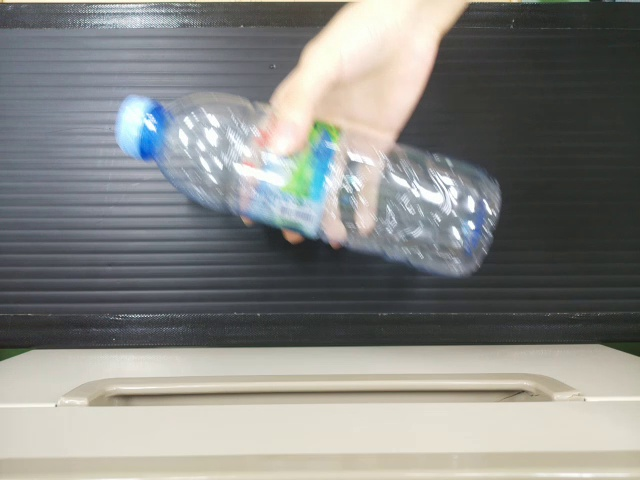bottle: (110, 85, 502, 284)
